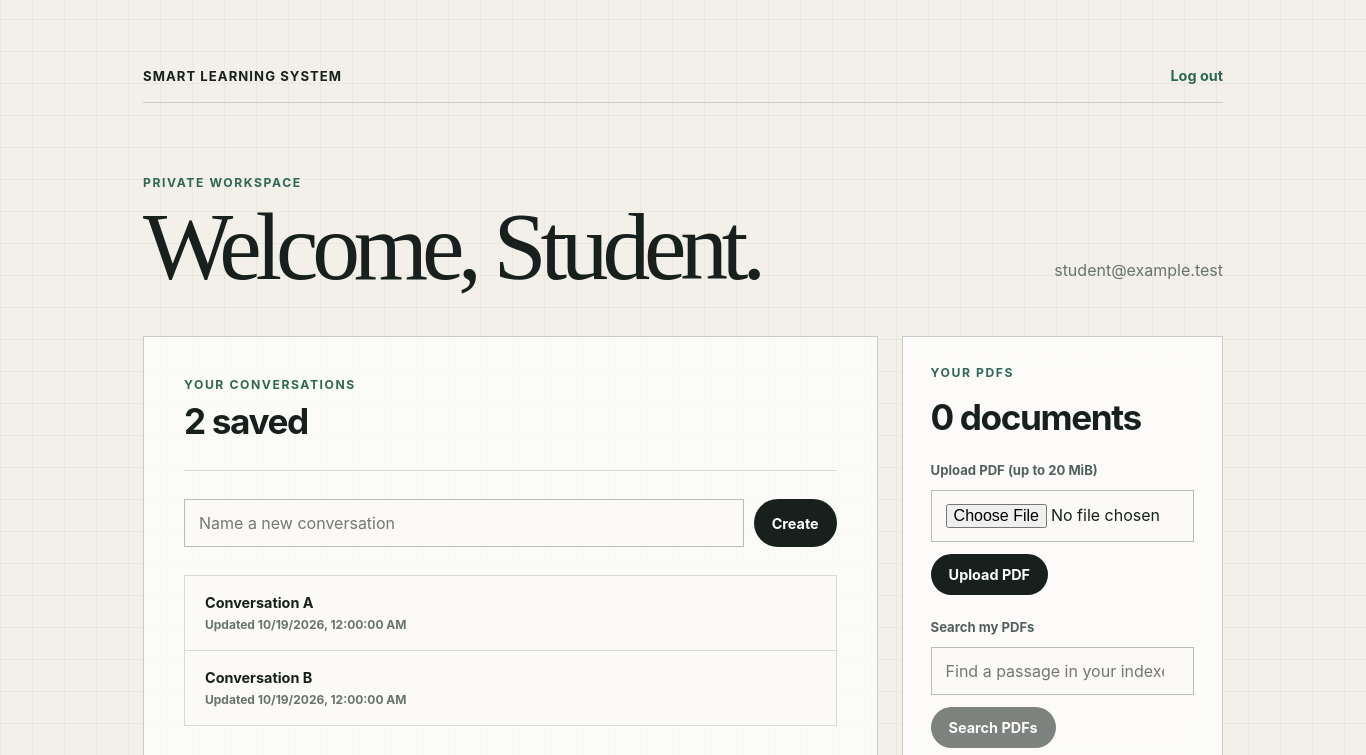
Test: a different student signing in after expiry does not inherit drafts
This screenshot has width=1366, height=755.
Click the button "Conversation A Updated 10/19/2026, 12:00:00 AM" at (259, 603), box 185,576 -> 836,650
(page scrolled)
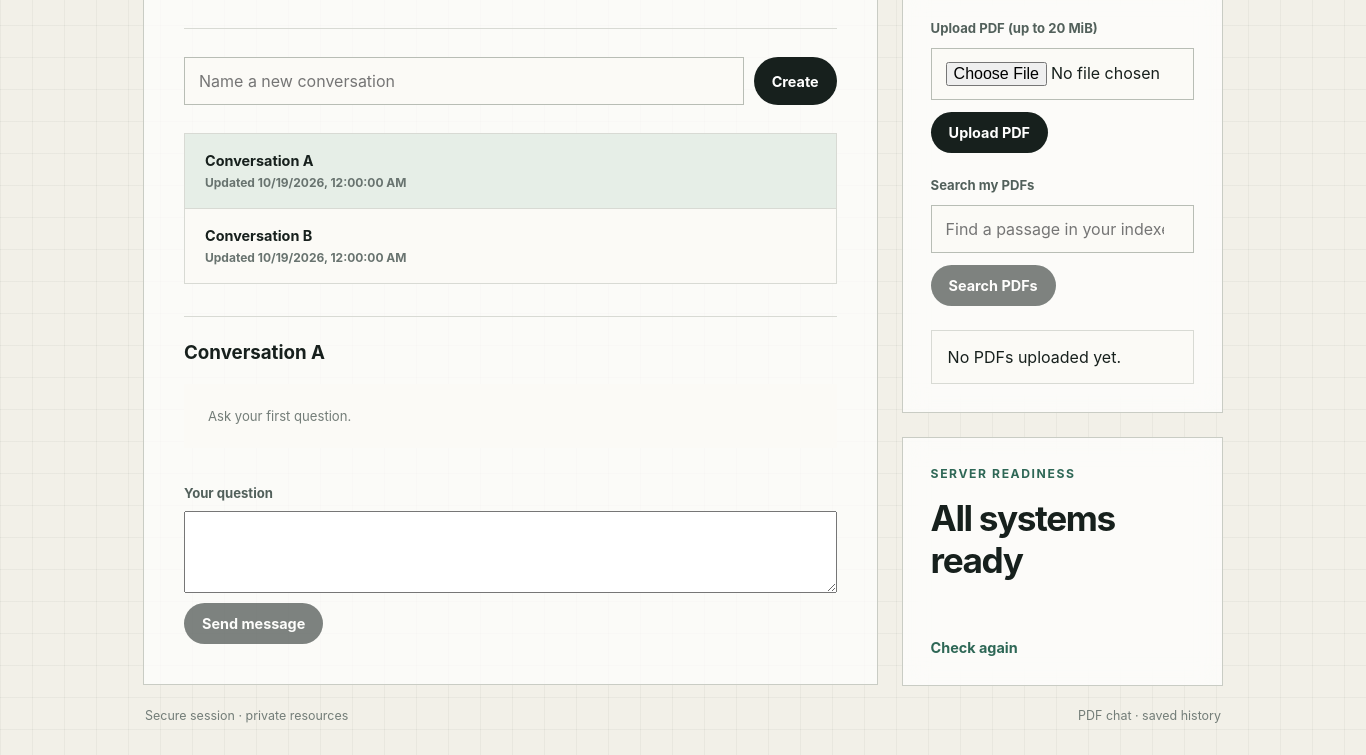
Check: the heading "Conversation A" is shown, box 184,341 -> 325,364
Type "Private draft" into the text box labelled "Your question" at (510, 552), box 184,511 -> 837,593
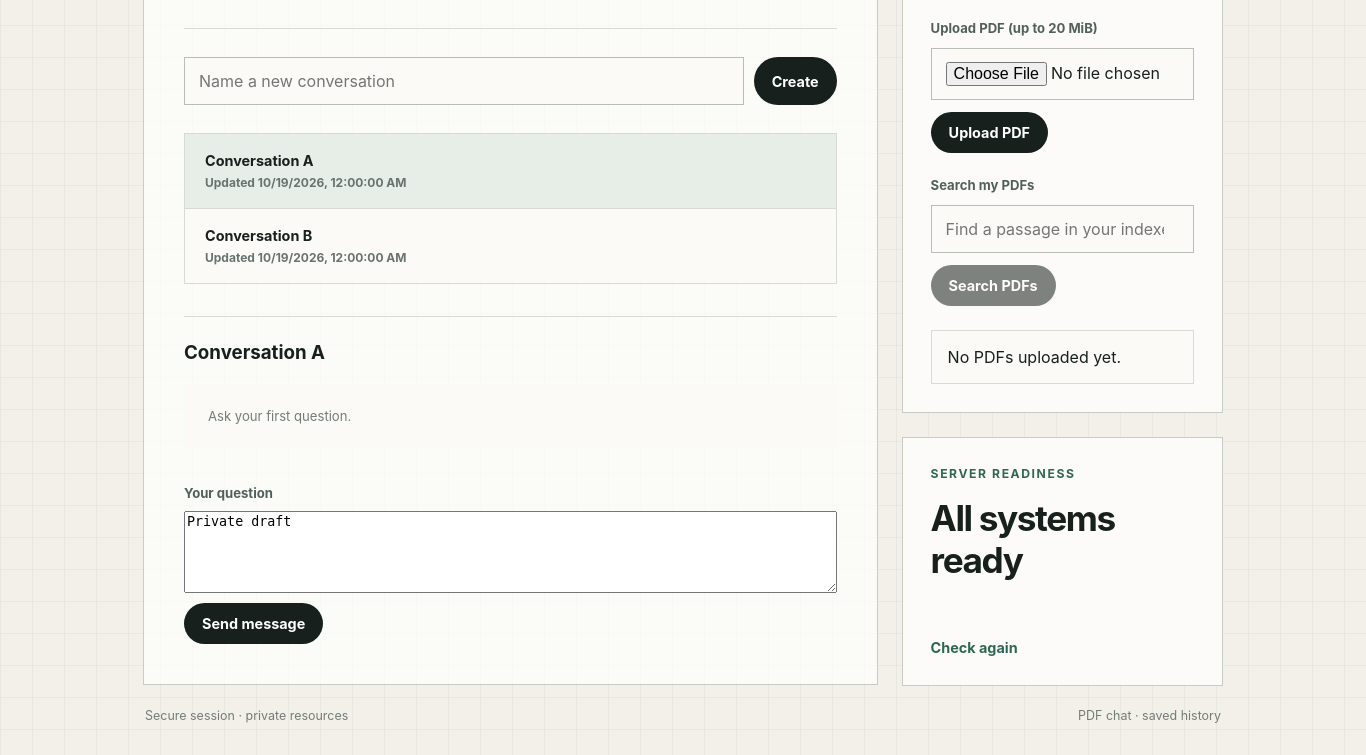
Click the button "Send message" at (254, 624), box 184,603 -> 323,644
(page scrolled)
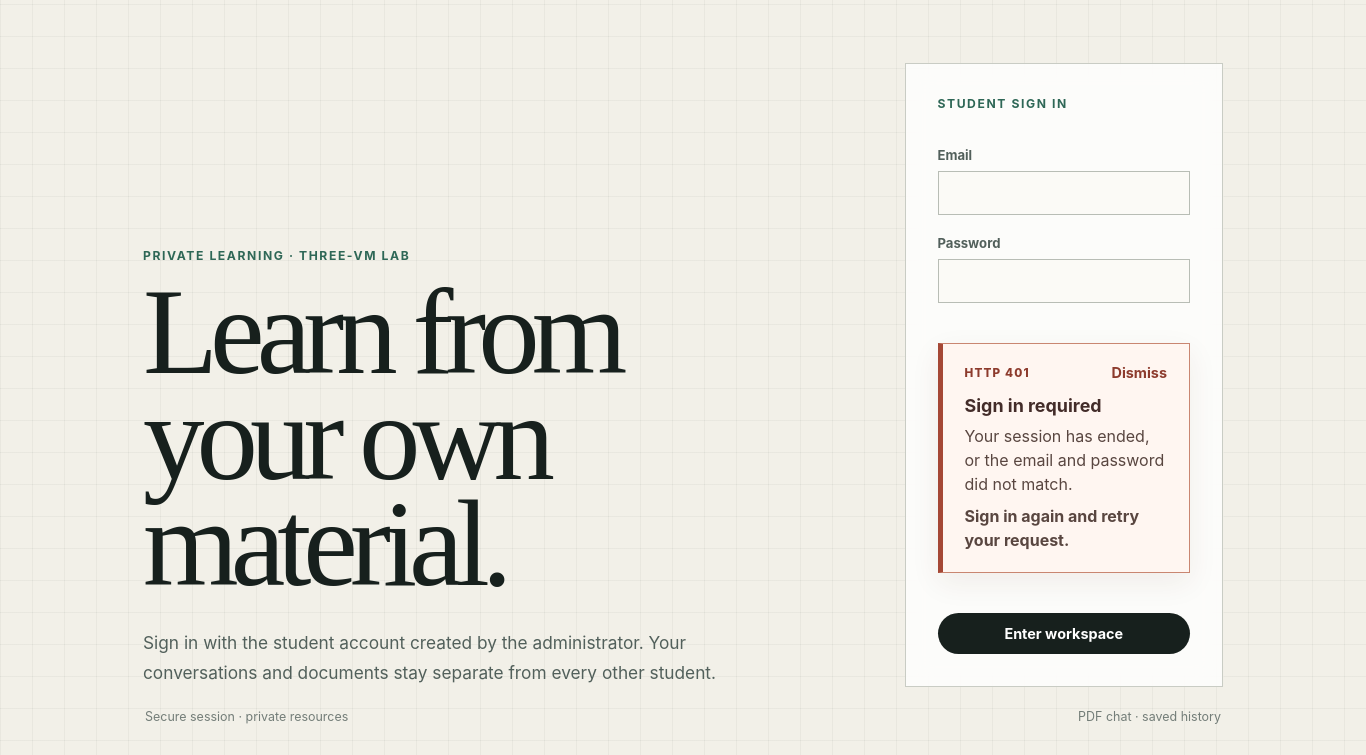
Check: the field labelled "Email" is shown
Type "student@example.test" into the field labelled "Email" at (1064, 193), box 938,171 -> 1190,215
Type "test-password" into the password field labelled "Password" at (1064, 281), box 938,259 -> 1190,303
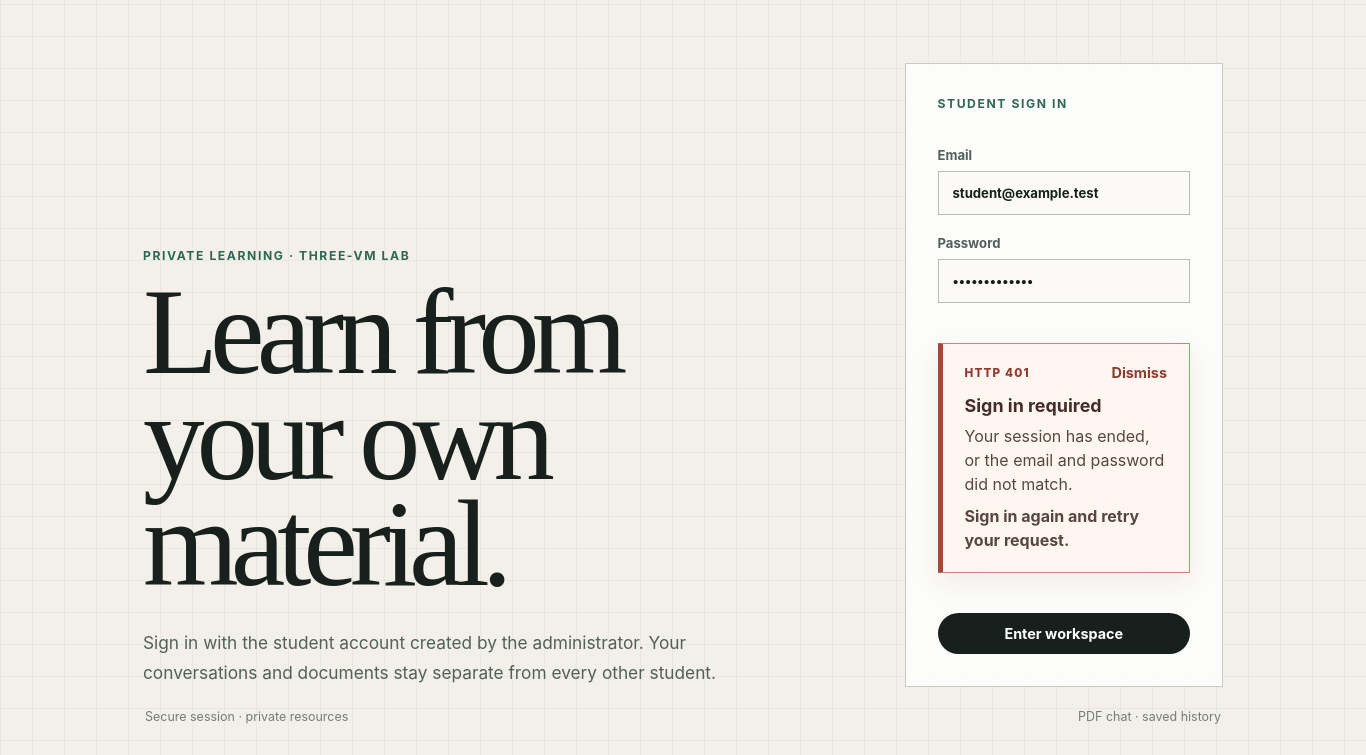
Click the button "Enter workspace" at (1064, 634), box 938,613 -> 1190,654
(page scrolled)
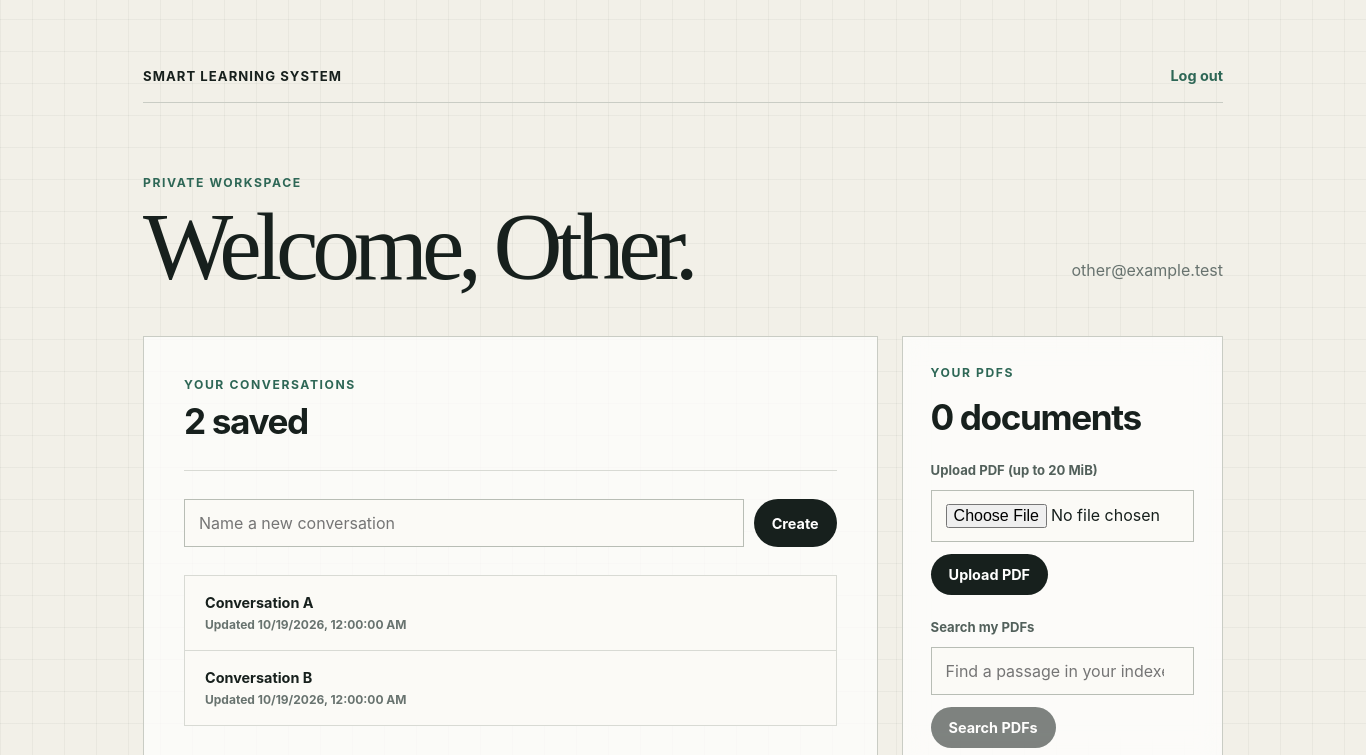
Click the button "Conversation A Updated 10/19/2026, 12:00:00 AM" at (259, 603), box 185,576 -> 836,650
(page scrolled)
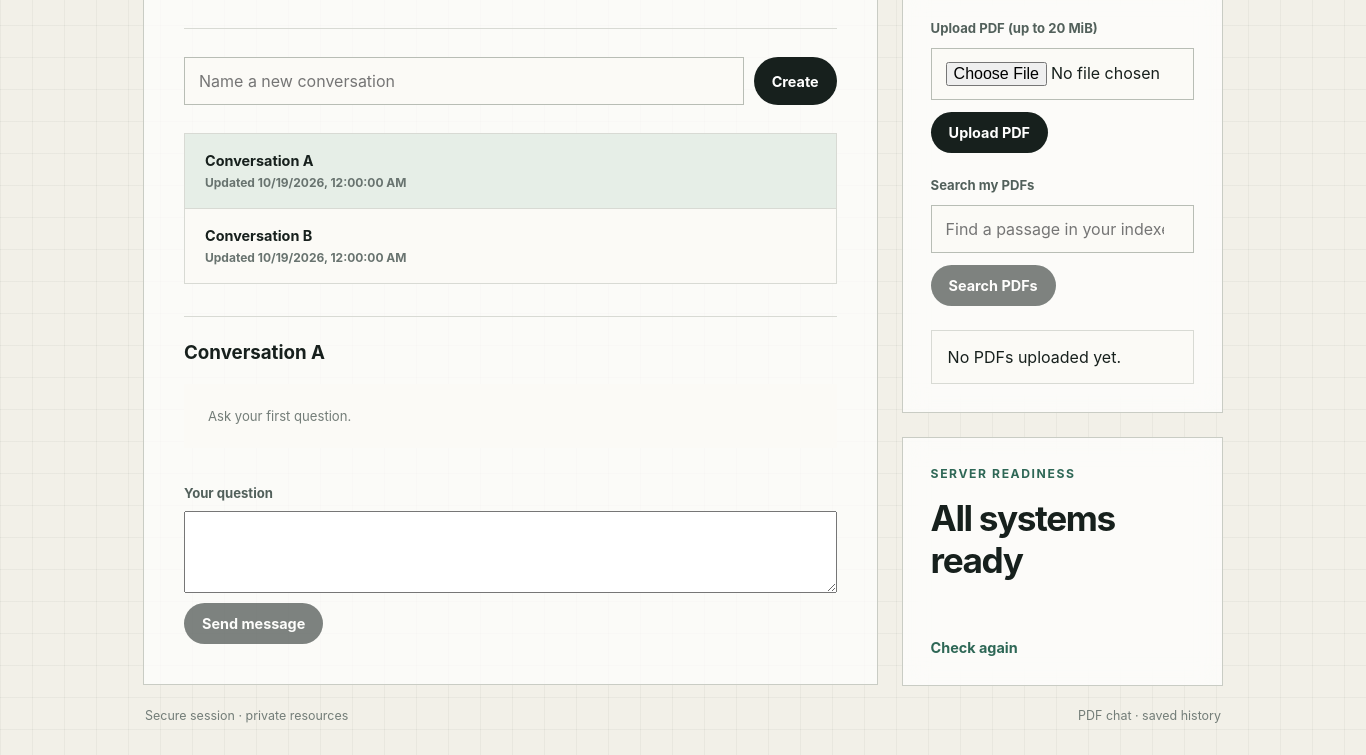
Check: the heading "Conversation A" is shown, box 184,341 -> 325,364
Check: the text box labelled "Your question" is empty, box 184,511 -> 837,593
